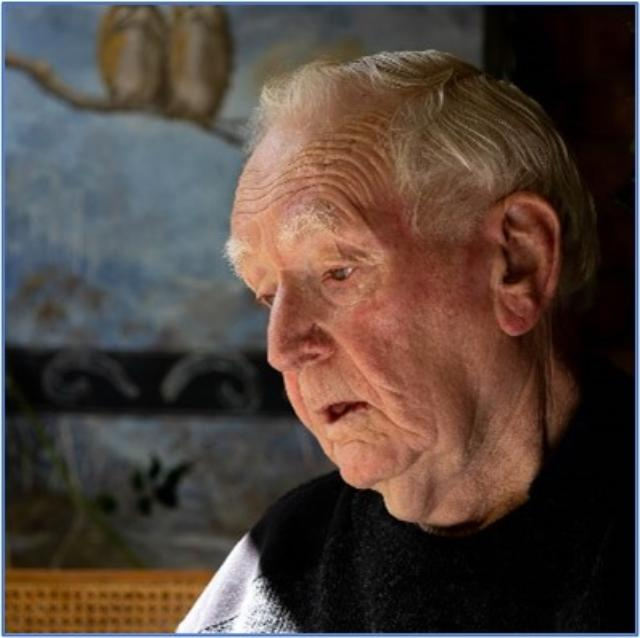forehead: (312, 144, 378, 202), (251, 156, 297, 210)
gummy_smile: (324, 332, 378, 400), (293, 370, 313, 414)
sad_smile: (370, 399, 416, 437)
